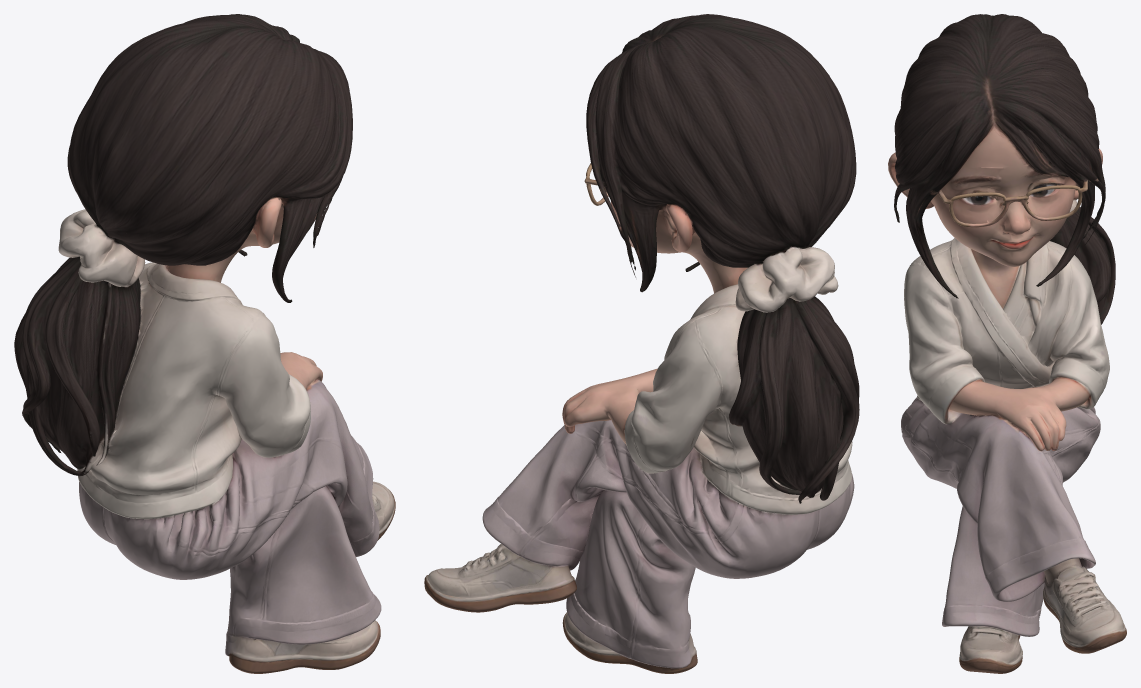
File: 牛心苗.glb
The picture shows the model from 3 angles, left to right: view 1: azimuth 30°, elevation 25°; view 2: azimuth 150°, elevation 25°; view 3: azimuth 270°, elevation 25°; orthographic projection. The views are drawn at different scales.
Parts seen in each view (by area): view 1: tripo_node_aac8198e-6197-4753-866a-230d786d4dc0; view 2: tripo_node_aac8198e-6197-4753-866a-230d786d4dc0; view 3: tripo_node_aac8198e-6197-4753-866a-230d786d4dc0.
Boxes of the visible parts, box(x1,y1,x2,y2) form: tripo_node_aac8198e-6197-4753-866a-230d786d4dc0: box(14, 14, 395, 673); tripo_node_aac8198e-6197-4753-866a-230d786d4dc0: box(424, 14, 859, 673); tripo_node_aac8198e-6197-4753-866a-230d786d4dc0: box(888, 14, 1126, 673).
Bounding box in the file's own units: 0.619 × 0.9801 × 0.3614.
1 material, 1 textured.
